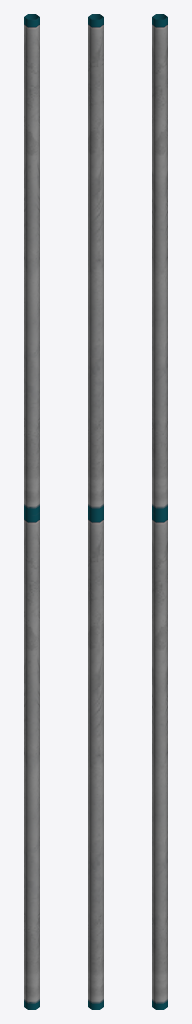
Rendered from CP_Pipe_B_4m_01.fbx.
3 renders of one model, left to right at view 1: azimuth 90°, elevation 25°; view 2: azimuth 210°, elevation 25°; view 3: azimuth 270°, elevation 25°, orthographic.
Parts seen in each view (by area): view 1: CP_Pipe_B_4m_01; view 2: CP_Pipe_B_4m_01; view 3: CP_Pipe_B_4m_01.
Part boxes in pixels (x1=…): CP_Pipe_B_4m_01: x1=24, y1=14, x2=39, y2=1009; CP_Pipe_B_4m_01: x1=88, y1=14, x2=103, y2=1009; CP_Pipe_B_4m_01: x1=152, y1=14, x2=167, y2=1009.
Bounding box in the file's own units: 4.97 × 400 × 5.74.
